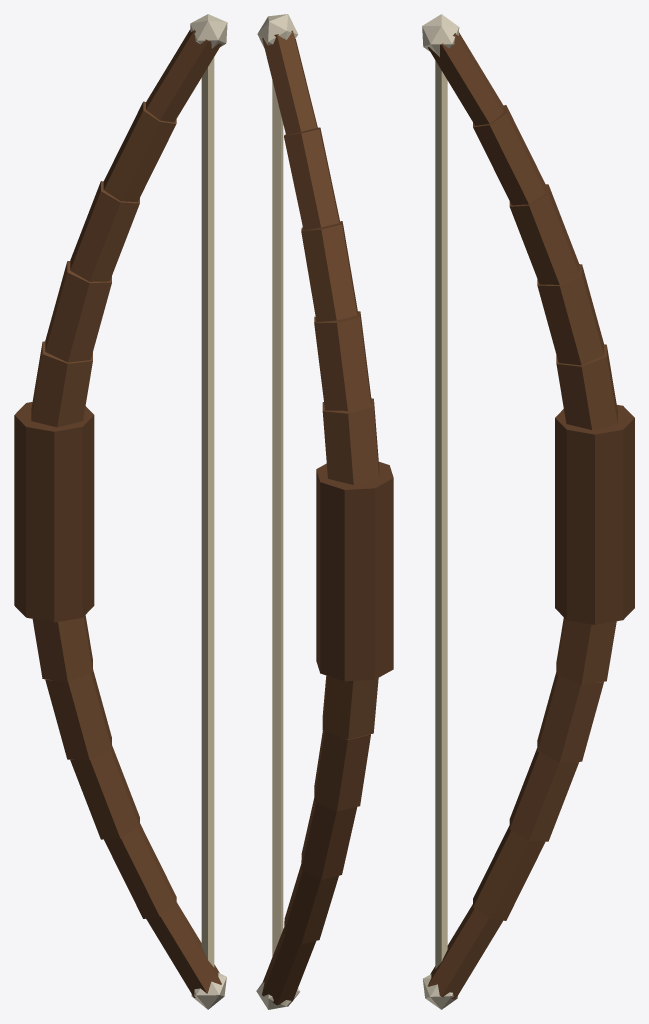
The model's file is Bow.glb.
3 views of the same model, side by side, from view 1: azimuth 90°, elevation 25°; view 2: azimuth 210°, elevation 25°; view 3: azimuth 270°, elevation 25° (orthographic).
Visible parts, largest first — view 1: Mat_Wood_6b462b, Mat_Wood_6e482c, Mat_Cloth_daceb3, Mat_Cloth_d2c9b4; view 2: Mat_Wood_6b462b, Mat_Wood_6e482c, Mat_Cloth_daceb3, Mat_Cloth_d2c9b4; view 3: Mat_Wood_6b462b, Mat_Wood_6e482c, Mat_Cloth_daceb3, Mat_Cloth_d2c9b4.
Boxes of the visible parts, bbox=[...] form: Mat_Wood_6b462b: bbox=[14, 402, 221, 997]; Mat_Wood_6e482c: bbox=[31, 29, 221, 427]; Mat_Cloth_daceb3: bbox=[190, 24, 225, 967]; Mat_Cloth_d2c9b4: bbox=[190, 14, 227, 1009]; Mat_Wood_6b462b: bbox=[262, 461, 393, 1005]; Mat_Wood_6e482c: bbox=[262, 30, 379, 484]; Mat_Cloth_daceb3: bbox=[257, 21, 297, 956]; Mat_Cloth_d2c9b4: bbox=[256, 14, 300, 1009]; Mat_Wood_6b462b: bbox=[428, 405, 634, 999]; Mat_Wood_6e482c: bbox=[427, 32, 617, 429]; Mat_Cloth_daceb3: bbox=[422, 26, 459, 969]; Mat_Cloth_d2c9b4: bbox=[422, 14, 458, 1009].
Bounding box in the file's own units: 0.38 × 5.19 × 1.01.
1 material, 1 textured.
